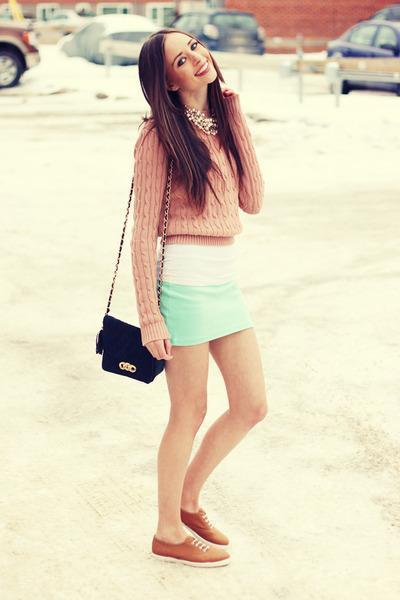bag: (96, 314, 165, 383)
jacket: (132, 92, 261, 330)
shoe: (152, 509, 227, 562)
skirt: (156, 237, 257, 345)
